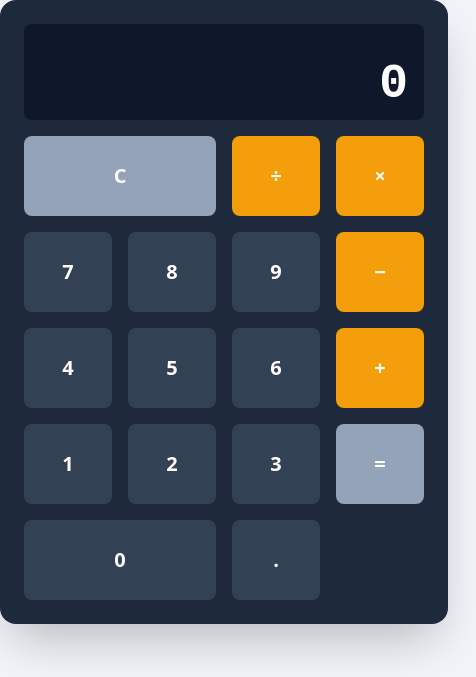
Calculator — basic calculation flow (US1) › resets display to 0 after pressing C
Click the button "9": coordinates (276, 272) x1=232 y1=232 x2=320 y2=312
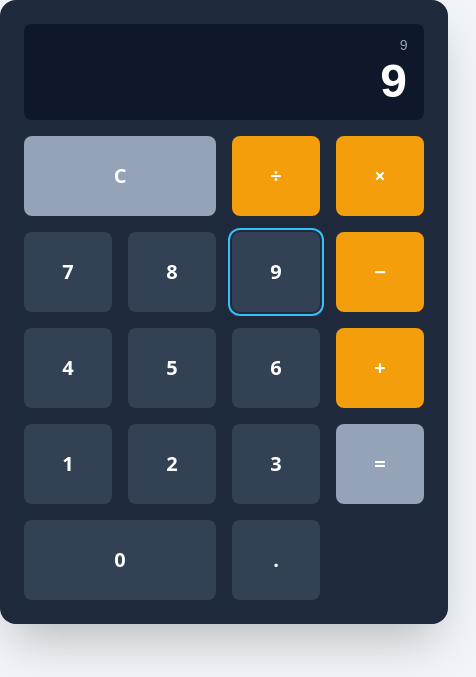
Click the button "+": coordinates (380, 368) x1=336 y1=328 x2=424 y2=408
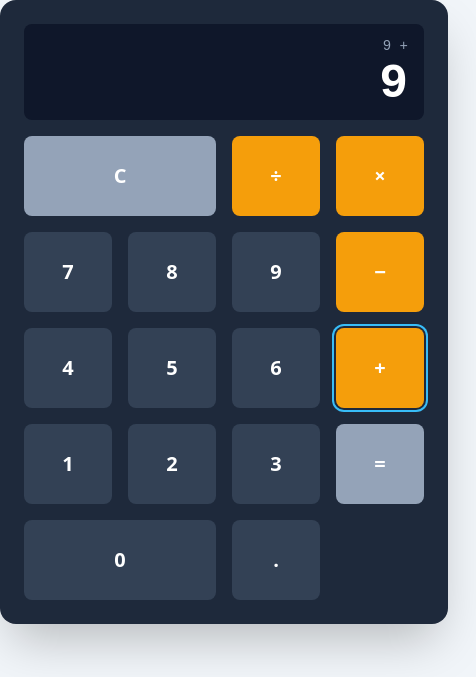
Click the button "C": coordinates (120, 176) x1=24 y1=136 x2=216 y2=216
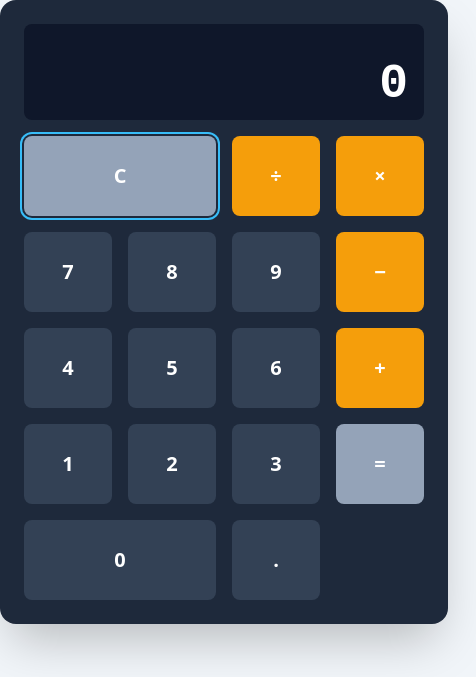
Result: the element with test id "calculator-display" reads "0" at x1=24 y1=24 x2=424 y2=120
